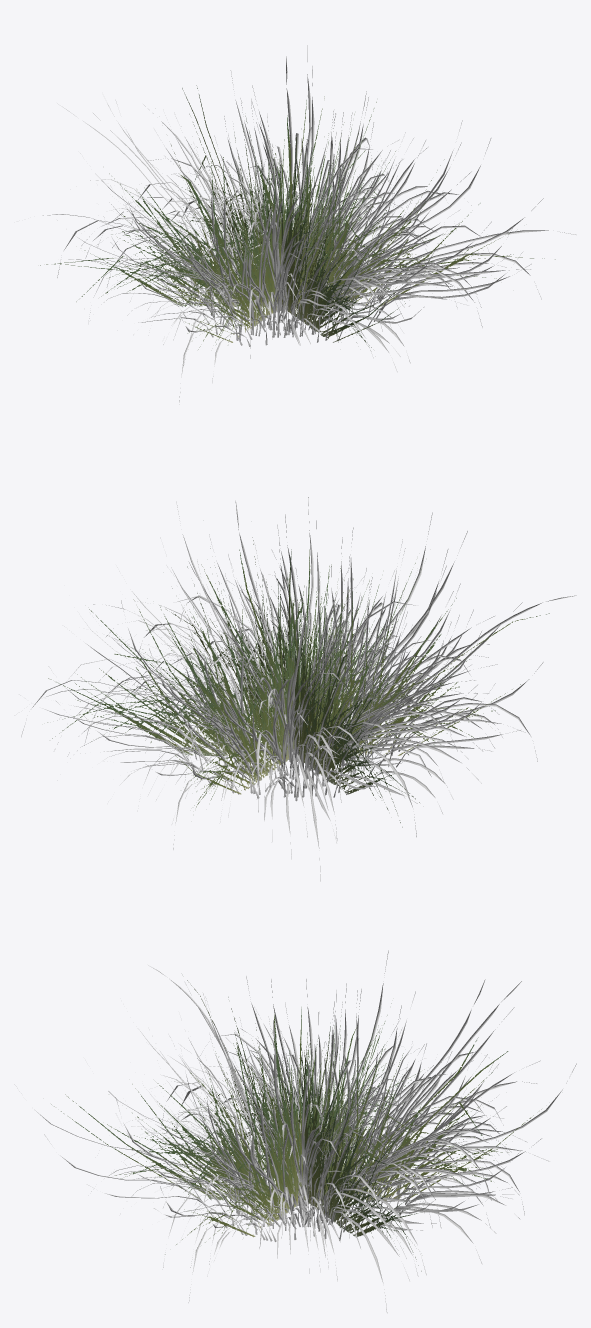
File: PW_Grass_Bush_1.fbx
3 views of the same model, one above another, from view 1: azimuth 30°, elevation 25°; view 2: azimuth 150°, elevation 25°; view 3: azimuth 270°, elevation 25° (orthographic). The views are drawn at different scales.
Parts seen in each view (by area): view 1: LOD0, Billboard; view 2: LOD0, Billboard; view 3: LOD0, Billboard.
Part boxes in pixels (x1,y1,x2,y2): LOD0: (42, 45, 576, 402); Billboard: (40, 85, 555, 349); LOD0: (19, 497, 576, 881); Billboard: (47, 537, 549, 827); LOD0: (14, 950, 576, 1313); Billboard: (51, 980, 541, 1271).
Size of what is drawn, in the model's own units: 94.17 by 45.5 by 101.
